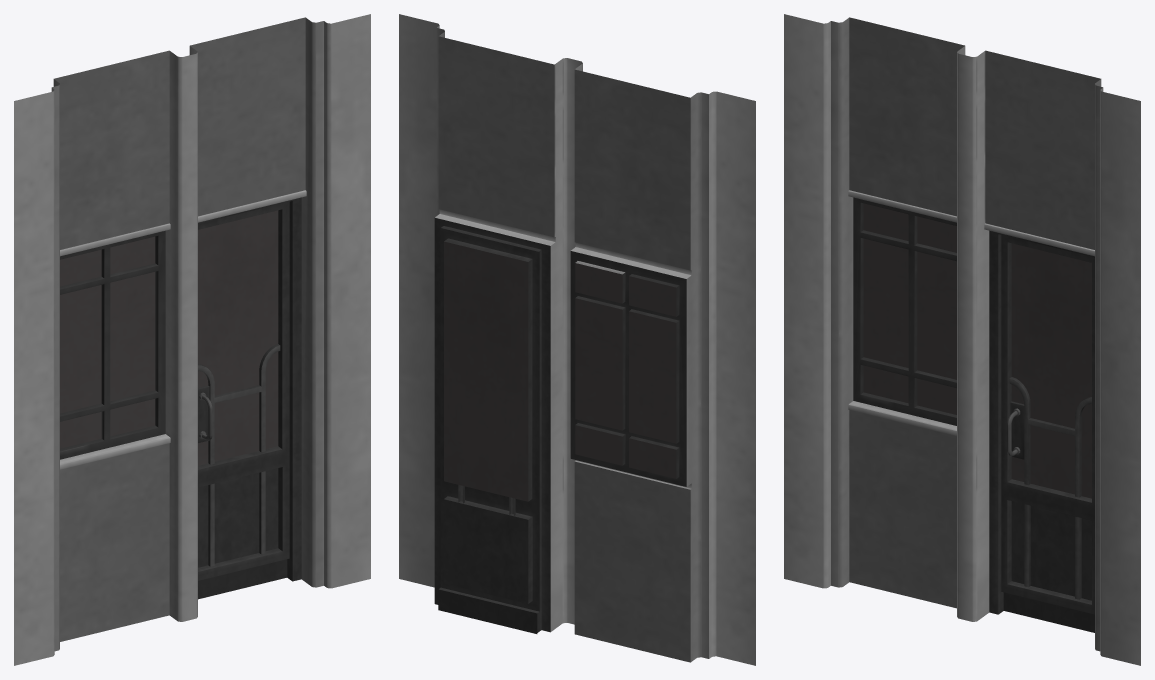
The model's file is M_A_door_balcony_01.fbx.
3 views of the same model, side by side, from view 1: azimuth 30°, elevation 25°; view 2: azimuth 150°, elevation 25°; view 3: azimuth 330°, elevation 25° (orthographic).
Parts seen in each view (by area): view 1: M_A_door_balcony_01; view 2: M_A_door_balcony_01; view 3: M_A_door_balcony_01.
Part boxes in pixels (x1,y1,x2,y2): M_A_door_balcony_01: (14, 14, 370, 665); M_A_door_balcony_01: (399, 14, 755, 665); M_A_door_balcony_01: (784, 14, 1140, 665).
Bounding box in the file's own units: 200 × 302 × 23.22.
